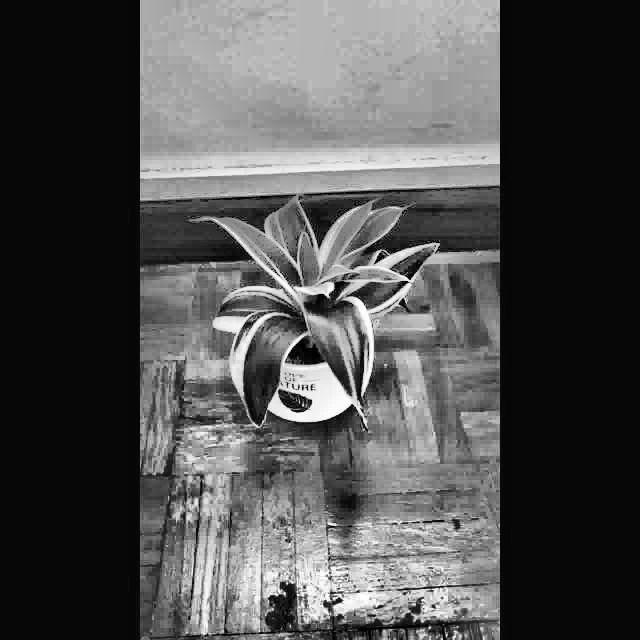plants: (190, 177, 448, 454)
